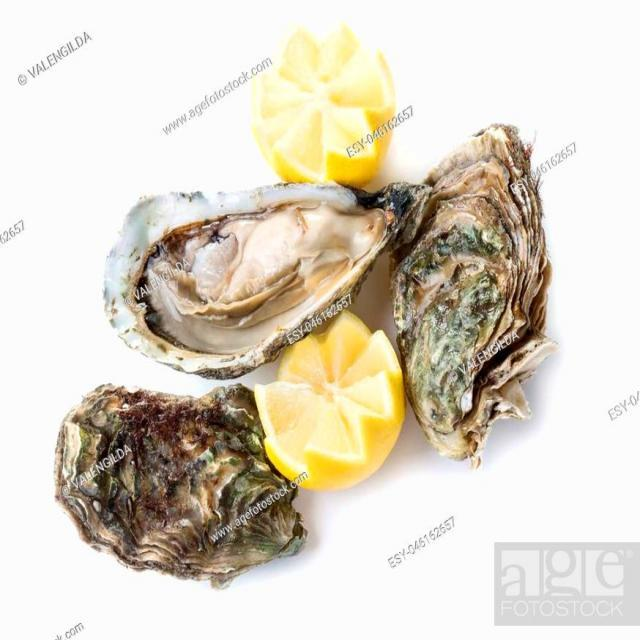Oyster- Indeterminate: (392, 125, 555, 464)
Oyster-Closed: (56, 385, 306, 586)
Oyster-Open: (105, 185, 429, 377)
